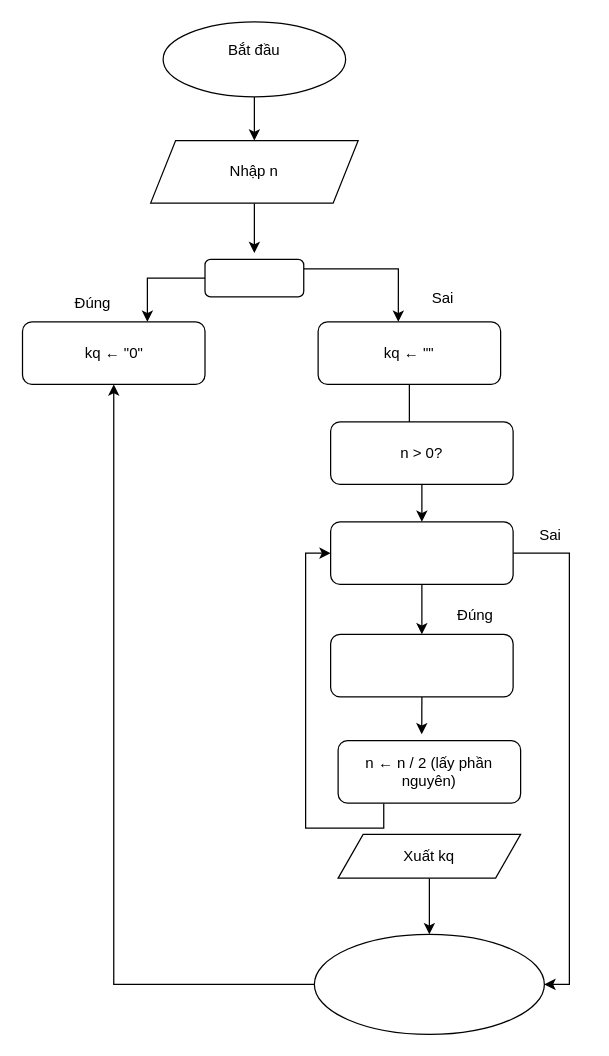
The diagram is 609 pixels wide and 1056 high, and some of its shapes have lost their labels. Here are the shapes that lost their labels. From the top down, the centre of each, then its label:
point (254, 277): n < 0 ?
point (421, 552): dư ← n % 2
point (421, 665): Ghép dư vào bên trái kq
point (428, 983): Kết thúc
